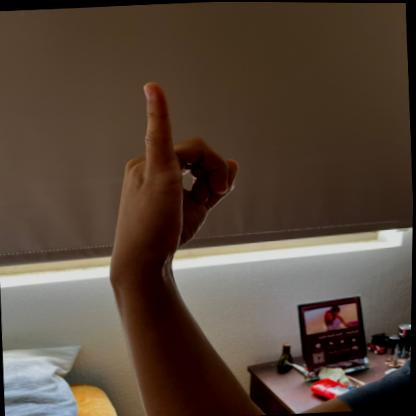I: (94, 71, 250, 259)
